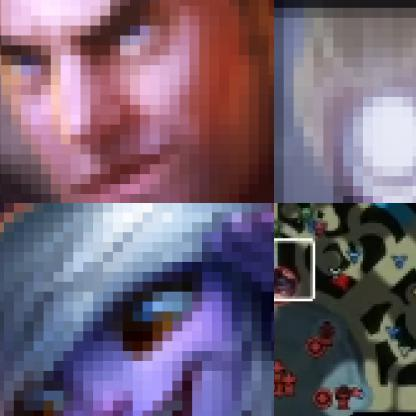Diana: (274, 0, 415, 202)
Jayce: (0, 0, 273, 202)
Rumble: (274, 266, 302, 307)
Tristana: (0, 203, 273, 415)
